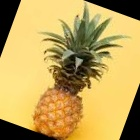Pineapple: (33, 4, 128, 138)
